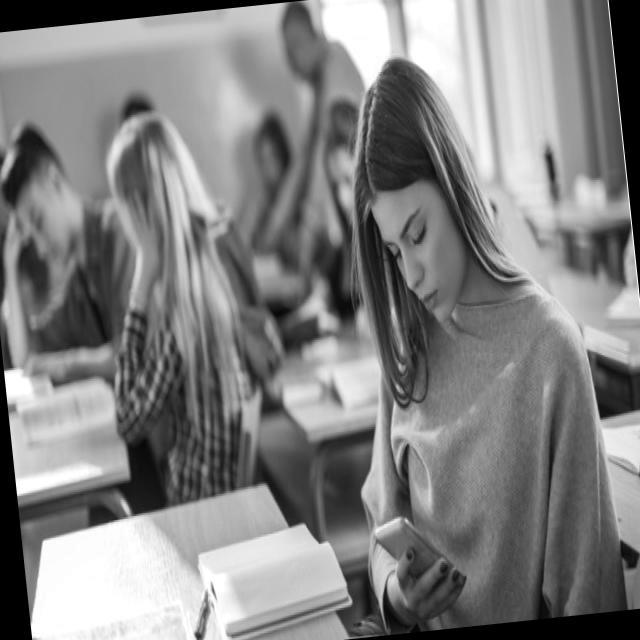phone: (372, 508, 467, 598)
